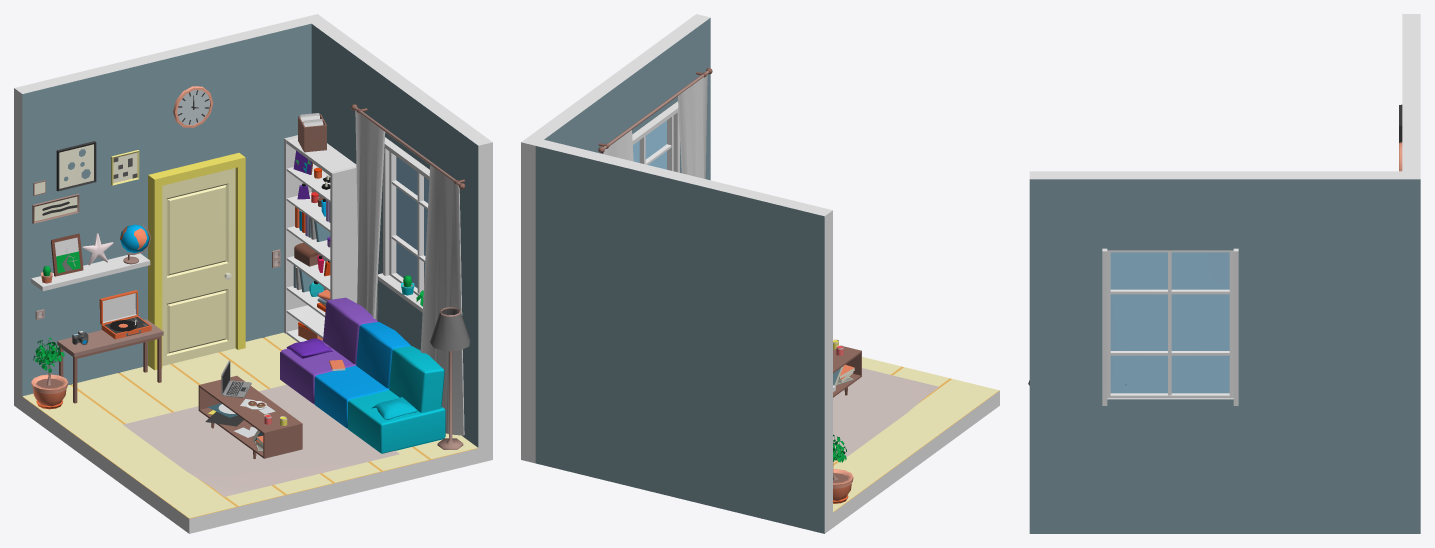
The model's file is room_11.glb.
3 renders of one model, left to right at view 1: azimuth 30°, elevation 25°; view 2: azimuth 150°, elevation 25°; view 3: azimuth 270°, elevation 25°, orthographic. The views are drawn at different scales.
Parts seen in each view (by area): view 1: Walls_116.008, wall_001.001, sofa_026.001, door_007.001, carpet_008.001, Walls_116.010, shelf_053.002, Walls_010.001, Walls_116.009, Curtains_020.002, door_008.001, Curtains_020.001 (+18 smaller); view 2: Walls_116.008, Walls_116.009, wall_001.001, carpet_008.001, Walls_116.011, Walls_010.001, Walls_116.010, Curtains_020.002, window_023.001, flower_023.001, tv_wall_023.001, Curtains_024.001 (+1 smaller); view 3: Walls_116.009, Walls_116.010, window_023.001, Walls_116.012, Walls_116.011, Walls_116.008, Walls_005.235, Walls_005.237.
Part boxes in pixels (box(x1,y1,x2,y2)): Walls_116.008: box(14, 17, 311, 411); wall_001.001: box(23, 332, 477, 518); sofa_026.001: box(280, 297, 445, 453); door_007.001: box(162, 168, 235, 365); carpet_008.001: box(123, 384, 399, 496); Walls_116.010: box(443, 117, 492, 463); shelf_053.002: box(284, 135, 357, 342); Walls_010.001: box(22, 337, 478, 533); Walls_116.009: box(303, 14, 400, 325); Curtains_020.002: box(420, 165, 464, 435); door_008.001: box(148, 153, 245, 370); Curtains_020.001: box(355, 110, 385, 319); Walls_116.008: box(535, 140, 832, 533); Walls_116.009: box(521, 81, 619, 463); wall_001.001: box(833, 357, 998, 511); carpet_008.001: box(833, 368, 939, 458); Walls_116.011: box(605, 39, 675, 134); Walls_010.001: box(833, 366, 999, 527); Walls_116.010: box(662, 14, 710, 180); Curtains_020.002: box(678, 74, 707, 178); window_023.001: box(633, 115, 673, 171); flower_023.001: box(833, 434, 853, 503); tv_wall_023.001: box(833, 346, 861, 397); Curtains_024.001: box(598, 68, 712, 153); Walls_116.009: box(1233, 171, 1420, 533); Walls_116.010: box(1029, 171, 1106, 533); window_023.001: box(1107, 250, 1233, 398); Walls_116.012: box(1107, 398, 1233, 533); Walls_116.011: box(1107, 171, 1233, 250); Walls_116.008: box(1402, 14, 1420, 171); Walls_005.235: box(1233, 248, 1238, 405); Walls_005.237: box(1102, 248, 1107, 405).
Size of the model in its own units: 4.32 by 4.2 by 4.21.
Materials: 1 (1 with a texture image).
